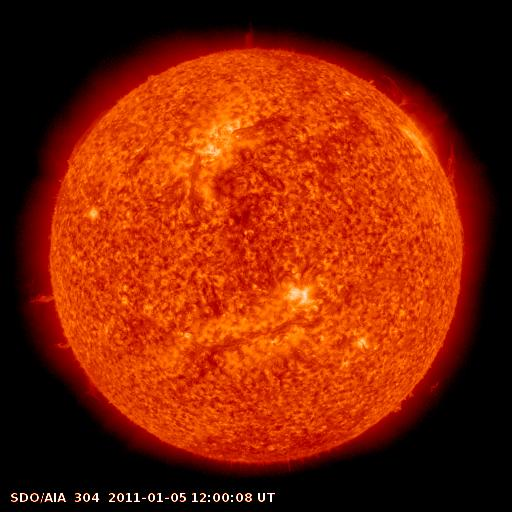prominence: (360, 60, 471, 198), (375, 359, 455, 422), (24, 283, 81, 368), (231, 16, 272, 56)
